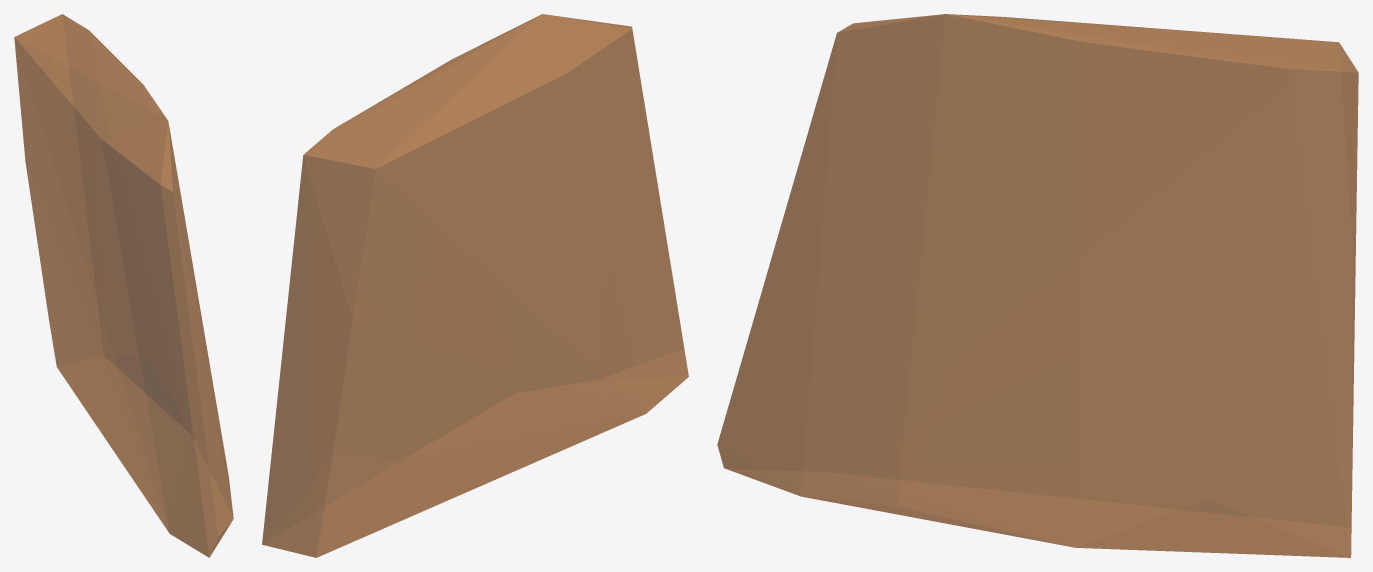
The picture shows the model from 3 angles, left to right: view 1: azimuth 30°, elevation 25°; view 2: azimuth 150°, elevation 25°; view 3: azimuth 270°, elevation 25°; orthographic projection. The views are drawn at different scales.
Visible parts, largest first — view 1: Shape_IndexedFaceSet.023_Shape_IndexedFaceSet.3600; view 2: Shape_IndexedFaceSet.023_Shape_IndexedFaceSet.3600; view 3: Shape_IndexedFaceSet.023_Shape_IndexedFaceSet.3600.
Boxes of the visible parts, x1,y1,x2,y2 form: Shape_IndexedFaceSet.023_Shape_IndexedFaceSet.3600: [14, 14, 233, 557]; Shape_IndexedFaceSet.023_Shape_IndexedFaceSet.3600: [262, 14, 688, 557]; Shape_IndexedFaceSet.023_Shape_IndexedFaceSet.3600: [717, 14, 1358, 557].
Size of the model in its own units: 0.13 by 0.3433 by 0.41.
